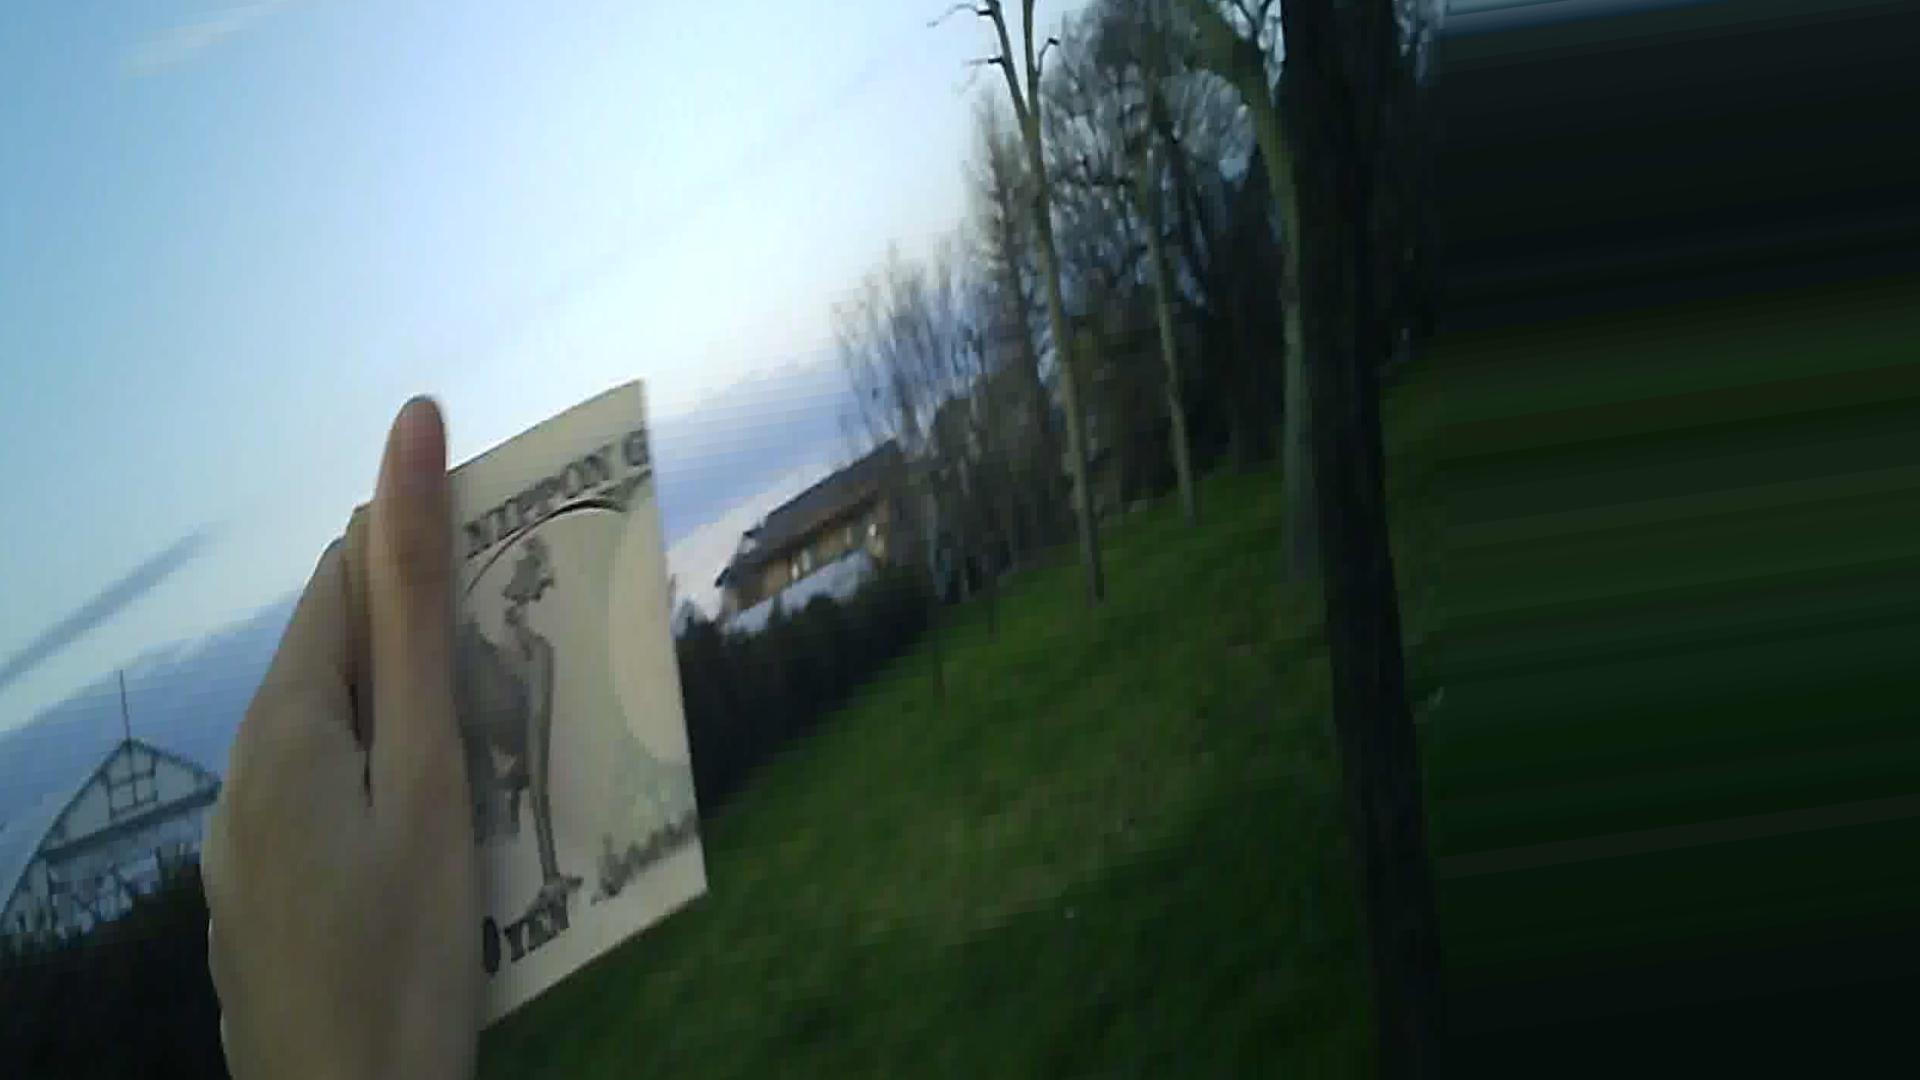10,000 Yen: (284, 402, 738, 975)
